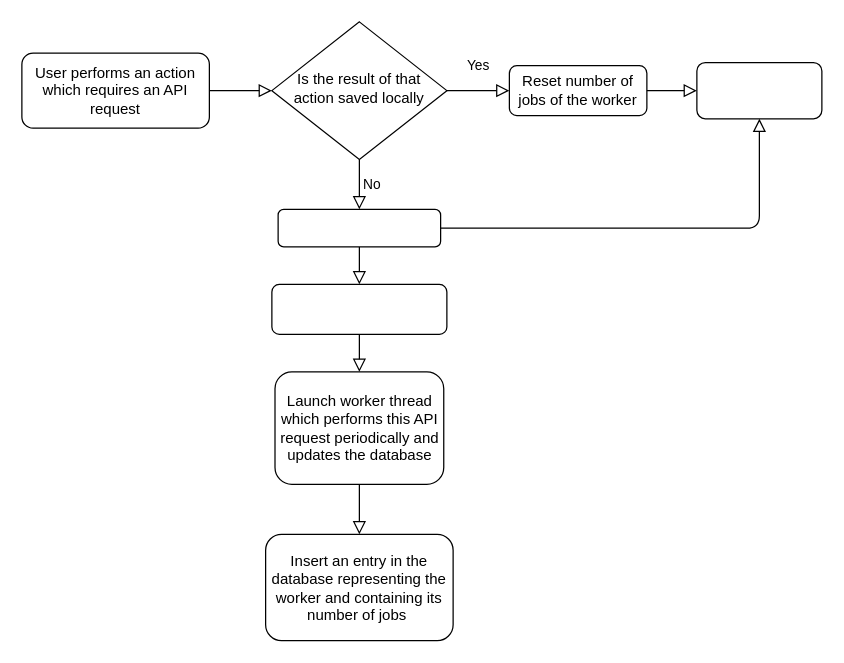
The diagram is 844 pixels wide and 663 high, and some of its shapes have lost their labels. The shapes that lost their labels are listed below. From the top down, each one's box as (x1, y1, x2, y2) in pixels, then its label:
(696, 61, 822, 119): Update view with response details
(277, 208, 441, 247): Perform API Request
(271, 283, 447, 334): Update local database with response
